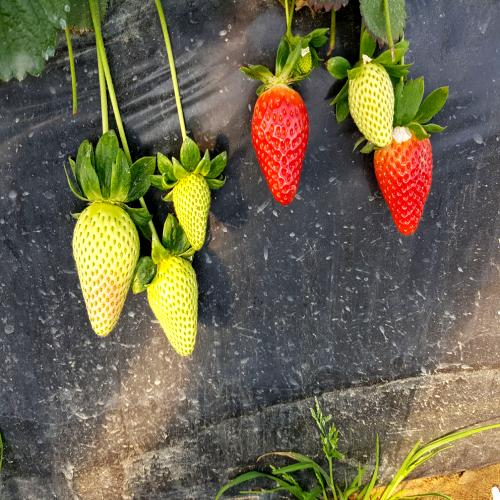ripe: (248, 82, 311, 192), (379, 125, 437, 219)
unripe: (78, 198, 132, 330), (331, 53, 401, 141), (165, 140, 212, 248), (146, 257, 198, 350)
